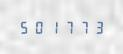five: (17, 20, 30, 34)
one: (46, 20, 59, 34)
seven: (60, 20, 73, 34), (74, 20, 87, 34)
three: (88, 20, 101, 34)
zero: (31, 20, 44, 34)
